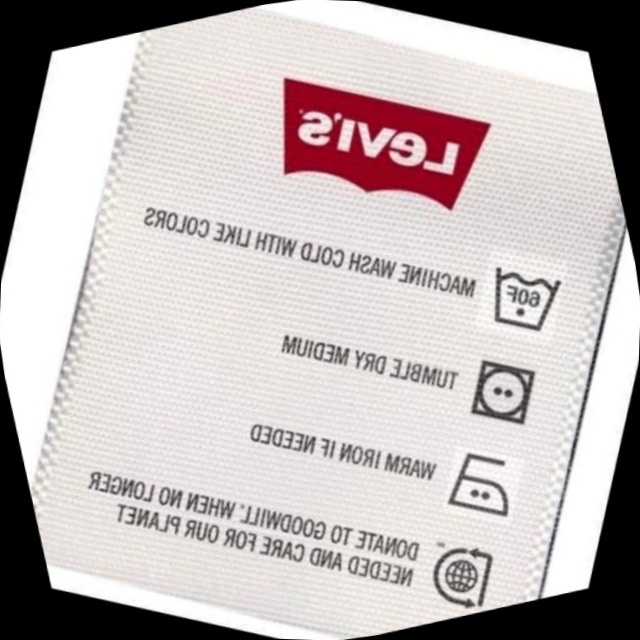30C: (477, 247, 571, 345)
iron_medium: (431, 436, 527, 532)
tumble_dry_medium: (453, 344, 548, 438)
